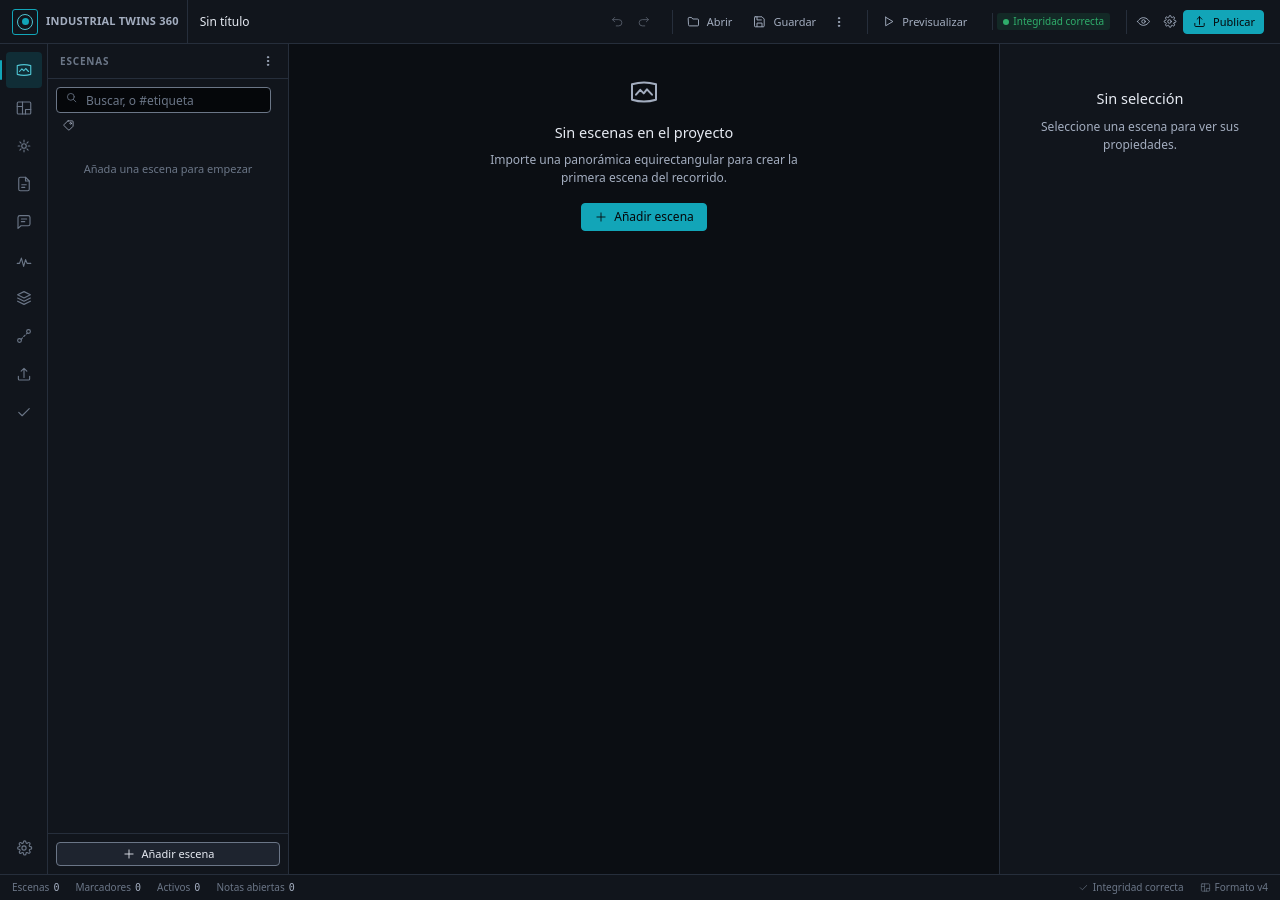
guardar una copia (Y03) › TEST-PLC-004 la copia se ofrece en el menú de archivo
The image size is (1280, 900).
Click the button named "Más opciones de archivo". click: (839, 22)
box: left=827, top=10, right=851, bottom=34
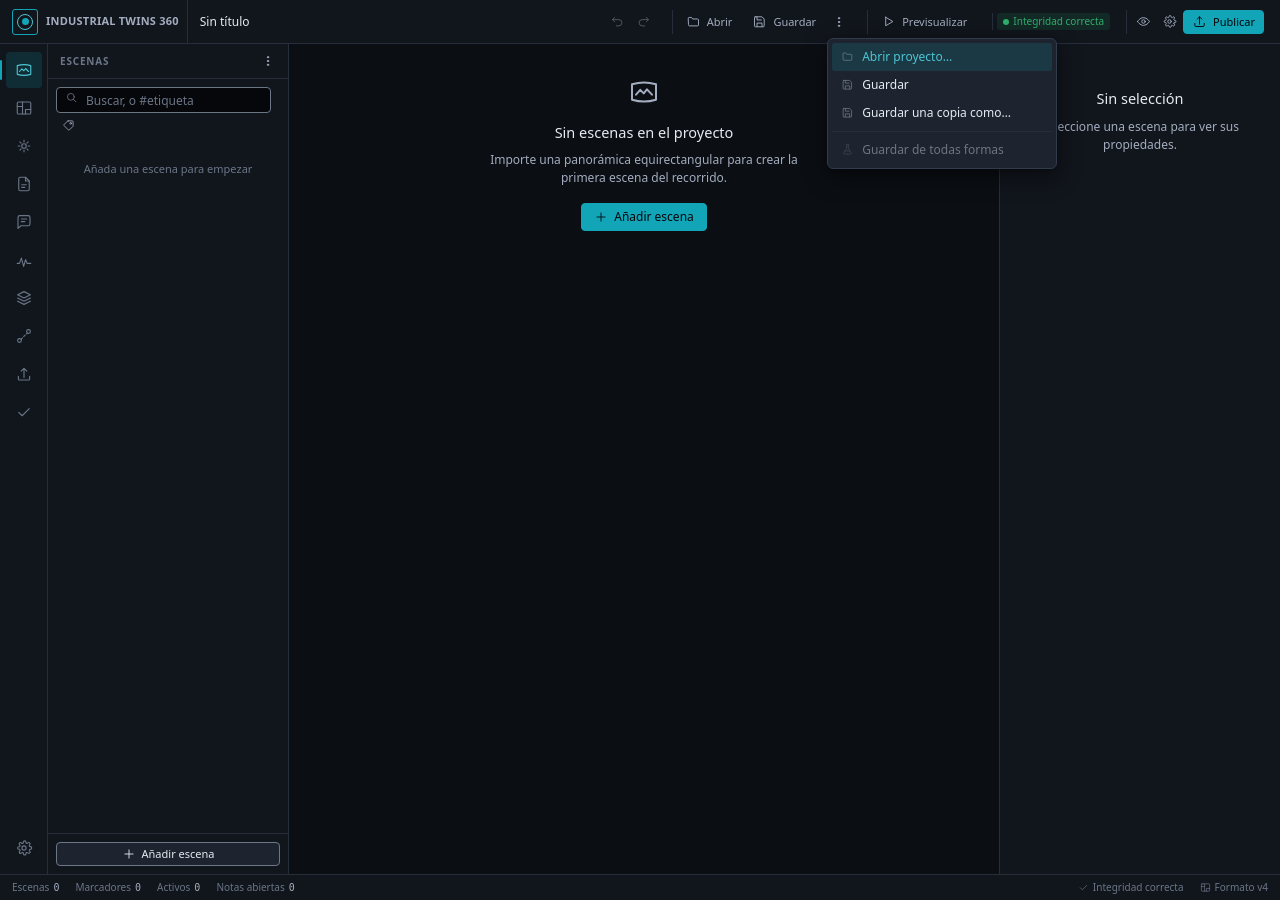
Result: the menu item "Guardar una copia como…" is shown at left=832, top=98, right=1052, bottom=126
